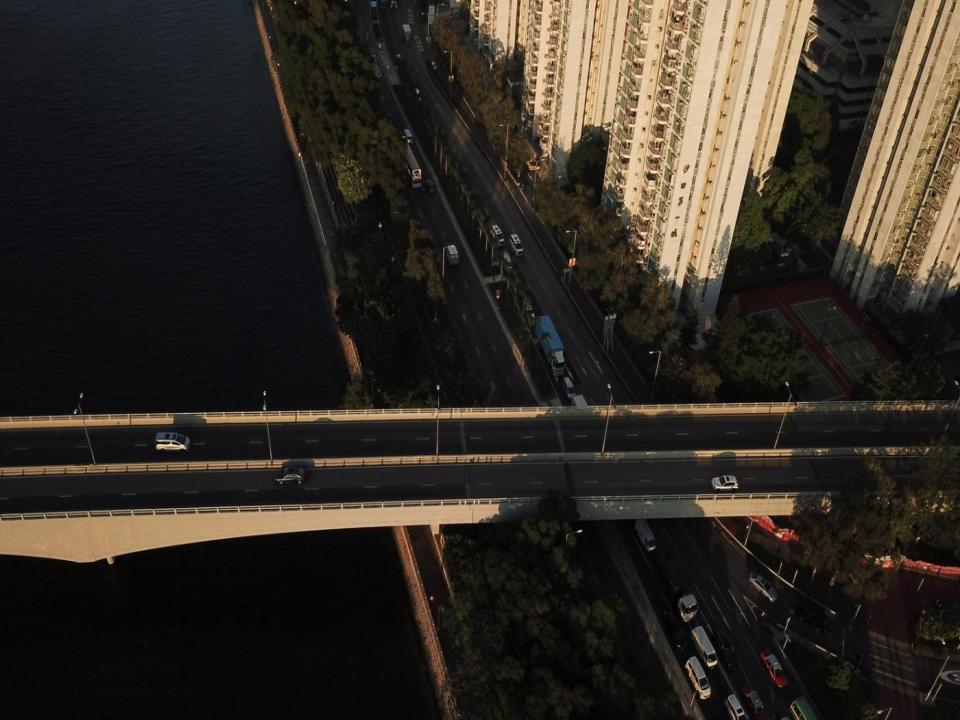bus: (399, 144, 421, 189)
car: (760, 646, 788, 688), (660, 610, 686, 652), (715, 631, 739, 671), (748, 571, 778, 602), (745, 688, 766, 719), (724, 693, 749, 719), (276, 467, 307, 483), (711, 474, 739, 491), (522, 298, 535, 320), (563, 378, 575, 400), (424, 179, 436, 197), (396, 53, 402, 62)
truck: (656, 551, 698, 623), (536, 314, 566, 376), (519, 138, 538, 171), (401, 24, 414, 45)
van: (691, 626, 719, 668), (686, 655, 711, 700), (634, 516, 658, 553), (156, 433, 192, 451), (571, 394, 590, 426), (508, 233, 524, 257), (500, 250, 513, 274), (491, 225, 505, 246), (447, 244, 458, 265), (404, 129, 413, 146), (368, 47, 376, 61), (415, 88, 422, 102)
